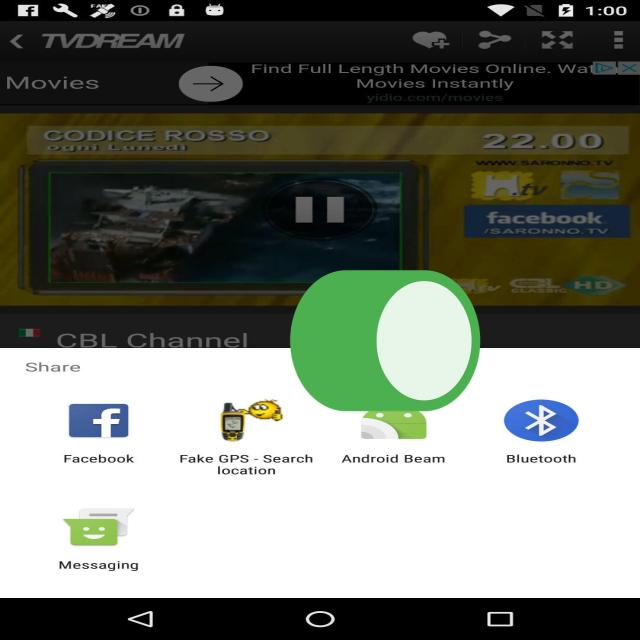social proof: (281, 216, 489, 476)
